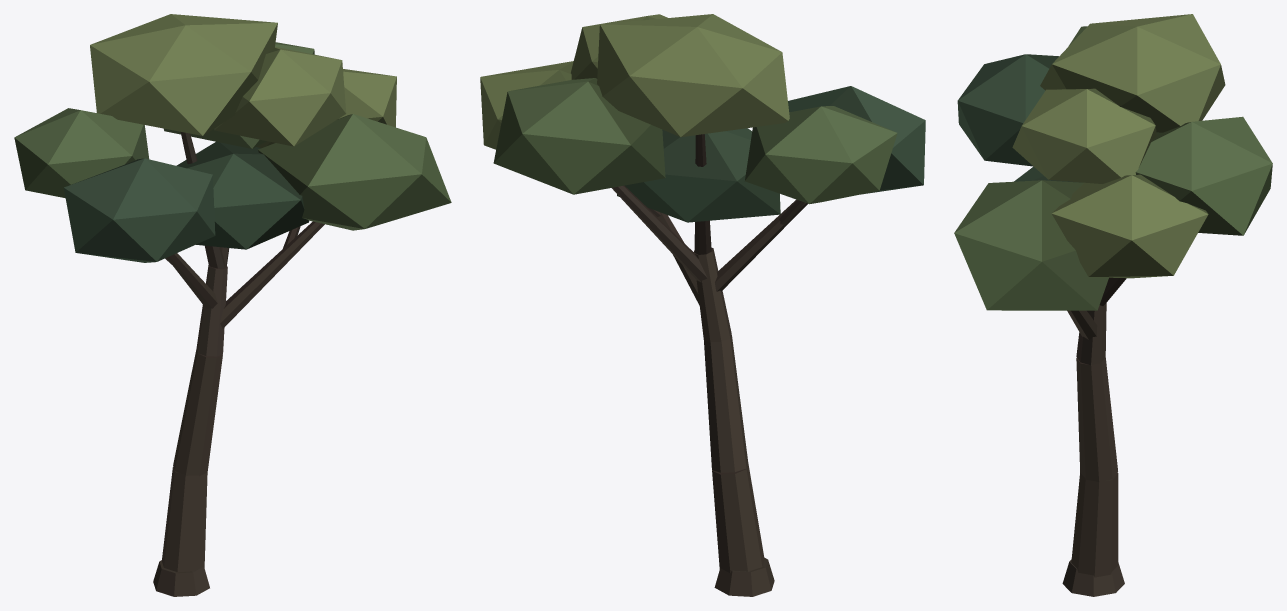
File: prop_school_tree_b.glb
The picture shows the model from 3 angles, left to right: view 1: azimuth 30°, elevation 25°; view 2: azimuth 150°, elevation 25°; view 3: azimuth 270°, elevation 25°; orthographic projection. The views are drawn at different scales.
Parts seen in each view (by area): view 1: prop_school_tree_b; view 2: prop_school_tree_b; view 3: prop_school_tree_b.
Boxes of the visible parts, x1,y1,x2,y2 form: prop_school_tree_b: (14,14,451,596); prop_school_tree_b: (480,14,925,596); prop_school_tree_b: (954,14,1272,596).
Size of the model in its own units: 3.38 by 4.64 by 2.35.
